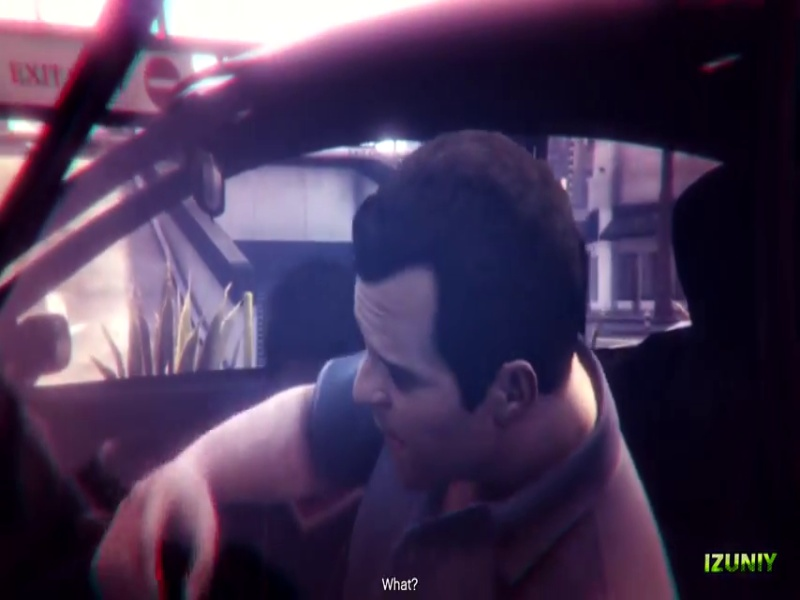human: (75, 113, 688, 598)
